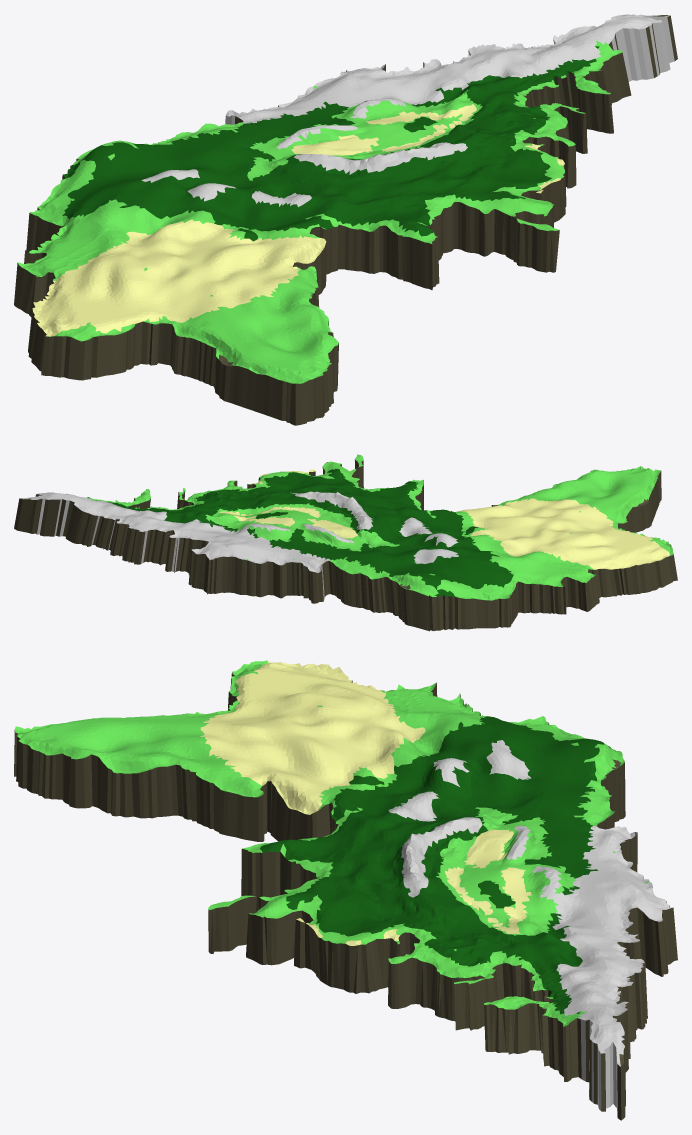
File: world_map_asia&russia01.fbx
3 views of the same model, one above another, from view 1: azimuth 30°, elevation 25°; view 2: azimuth 150°, elevation 25°; view 3: azimuth 270°, elevation 25° (orthographic). The views are drawn at different scales.
Parts seen in each view (by area): view 1: asia&eu&Africa; view 2: asia&eu&Africa; view 3: asia&eu&Africa.
Part boxes in pixels (box(x1,y1,x2,y2)): asia&eu&Africa: box(14, 14, 677, 425); asia&eu&Africa: box(14, 454, 677, 631); asia&eu&Africa: box(14, 660, 677, 1120).
Size of the model in its own units: 2344 by 206 by 1553.
